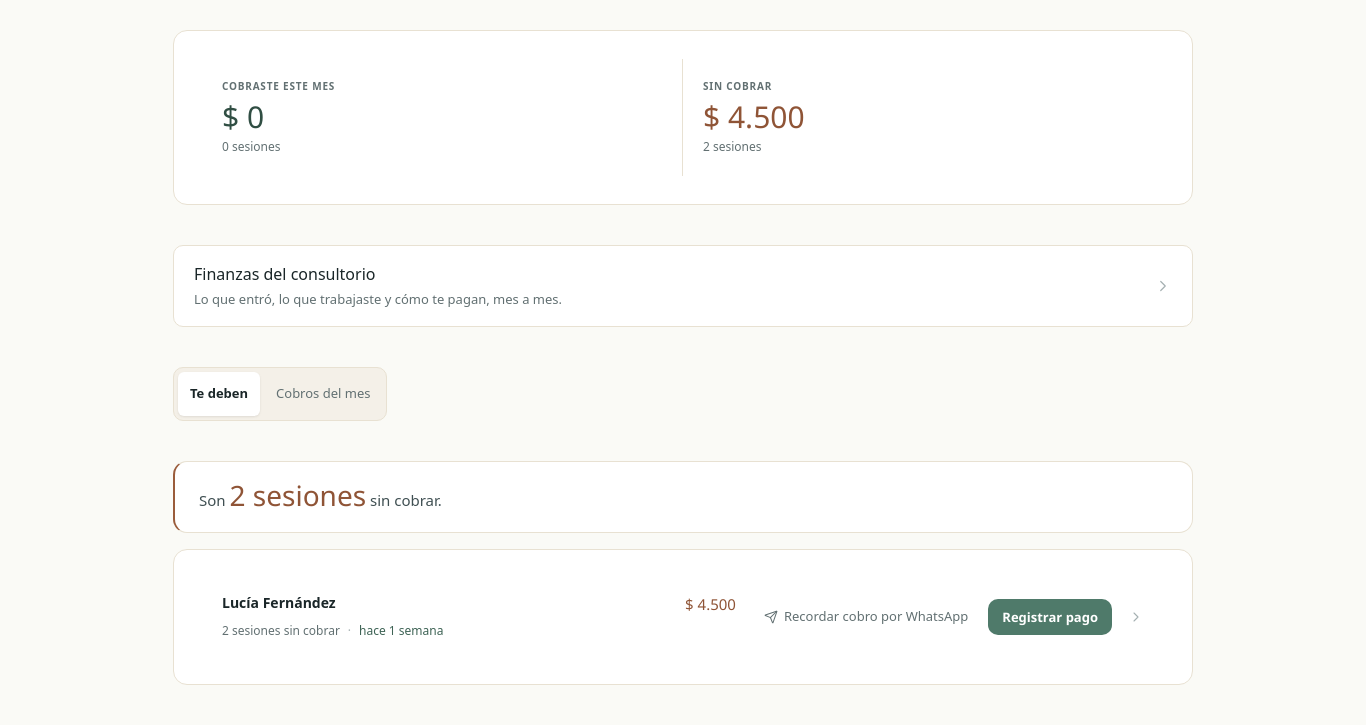
Test case: Te deben: la plantilla del aviso de cobro › la vista previa usa la plantilla de Tu consultorio
(page scrolled)
Click the button "Recordar cobro por WhatsApp" at (866,617), box [752, 599, 980, 635]
(page scrolled)
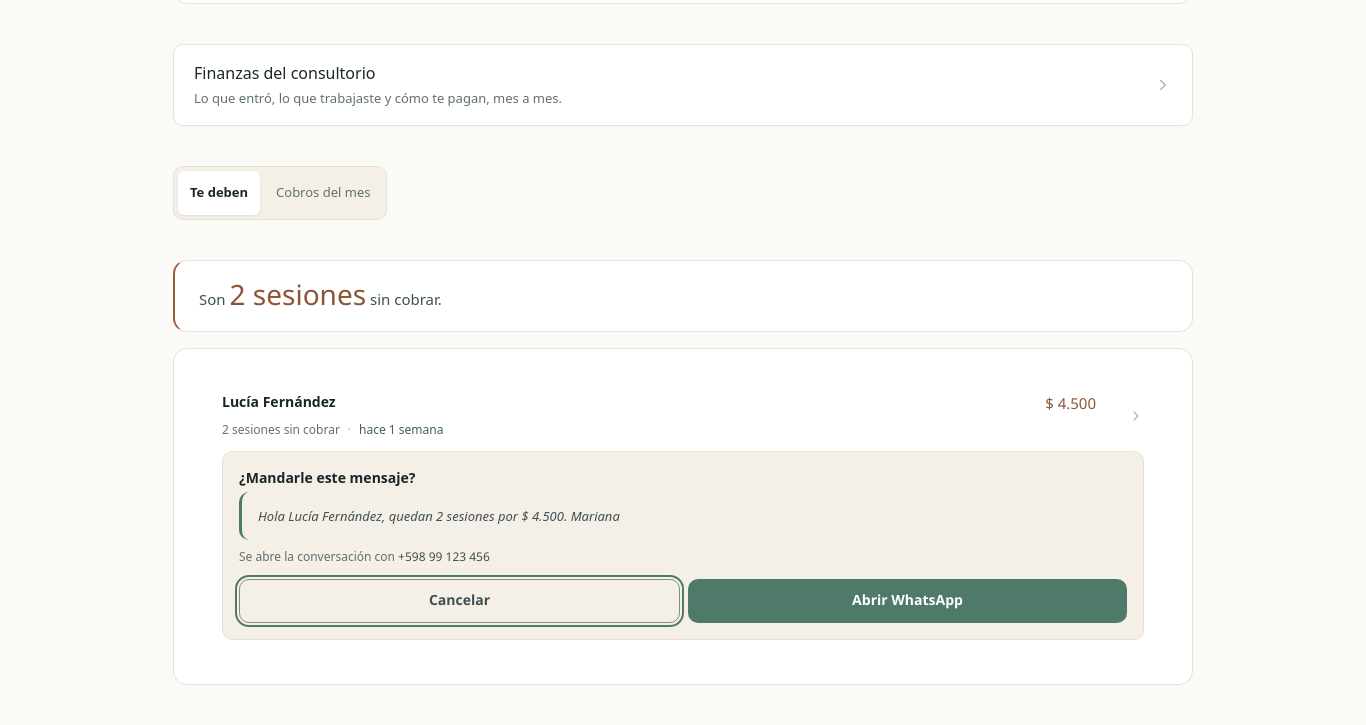
Expected: the text "¿Mandarle este mensaje?" is shown, [239, 468, 416, 487]
Expected: the text "Hola Lucía Fernández, quedan 2 sesiones por $ 4.500. Mariana" is shown, [239, 492, 1127, 540]
